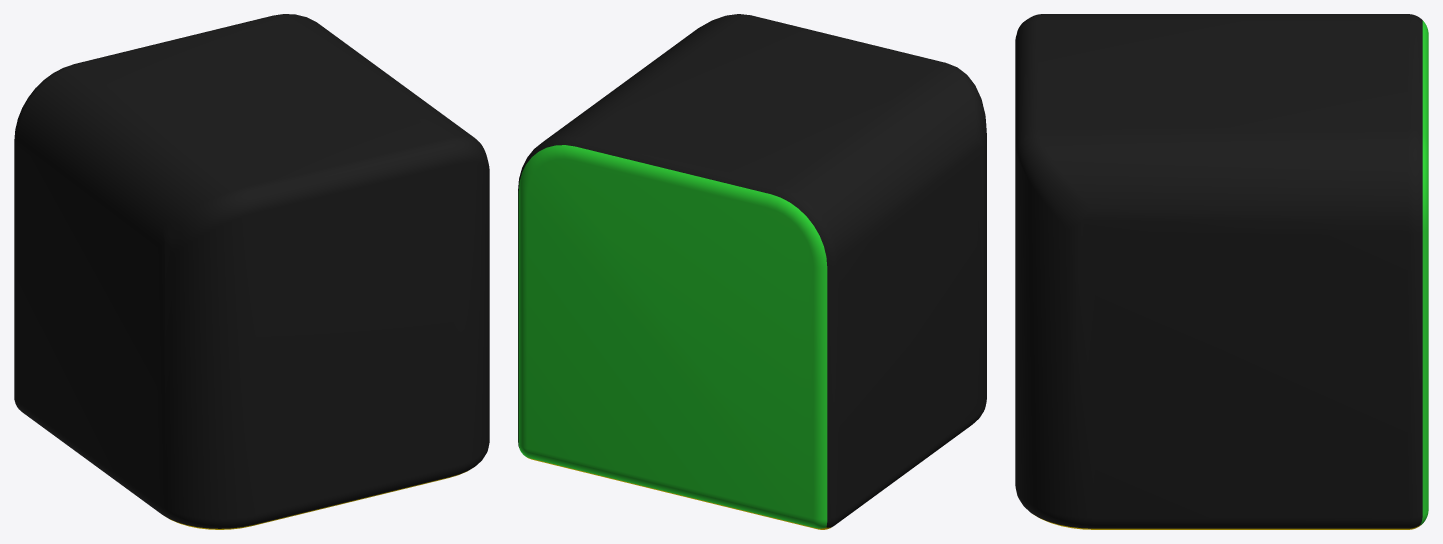
Rendered from yg_edge.glb.
The picture shows the model from 3 angles, left to right: view 1: azimuth 30°, elevation 25°; view 2: azimuth 150°, elevation 25°; view 3: azimuth 270°, elevation 25°; orthographic projection. The views are drawn at different scales.
Visible parts, largest first — view 1: Cube.024; view 2: Cube.024; view 3: Cube.024.
Boxes of the visible parts, x1,y1,x2,y2 form: Cube.024: (14,14,489,529); Cube.024: (518,14,986,529); Cube.024: (1015,14,1428,529).
Bounding box in the file's own units: 2 × 2 × 2.
